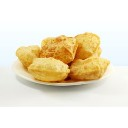poori: (29, 58, 69, 84), (39, 35, 76, 62), (70, 57, 109, 77), (76, 32, 101, 59), (15, 44, 38, 65)
